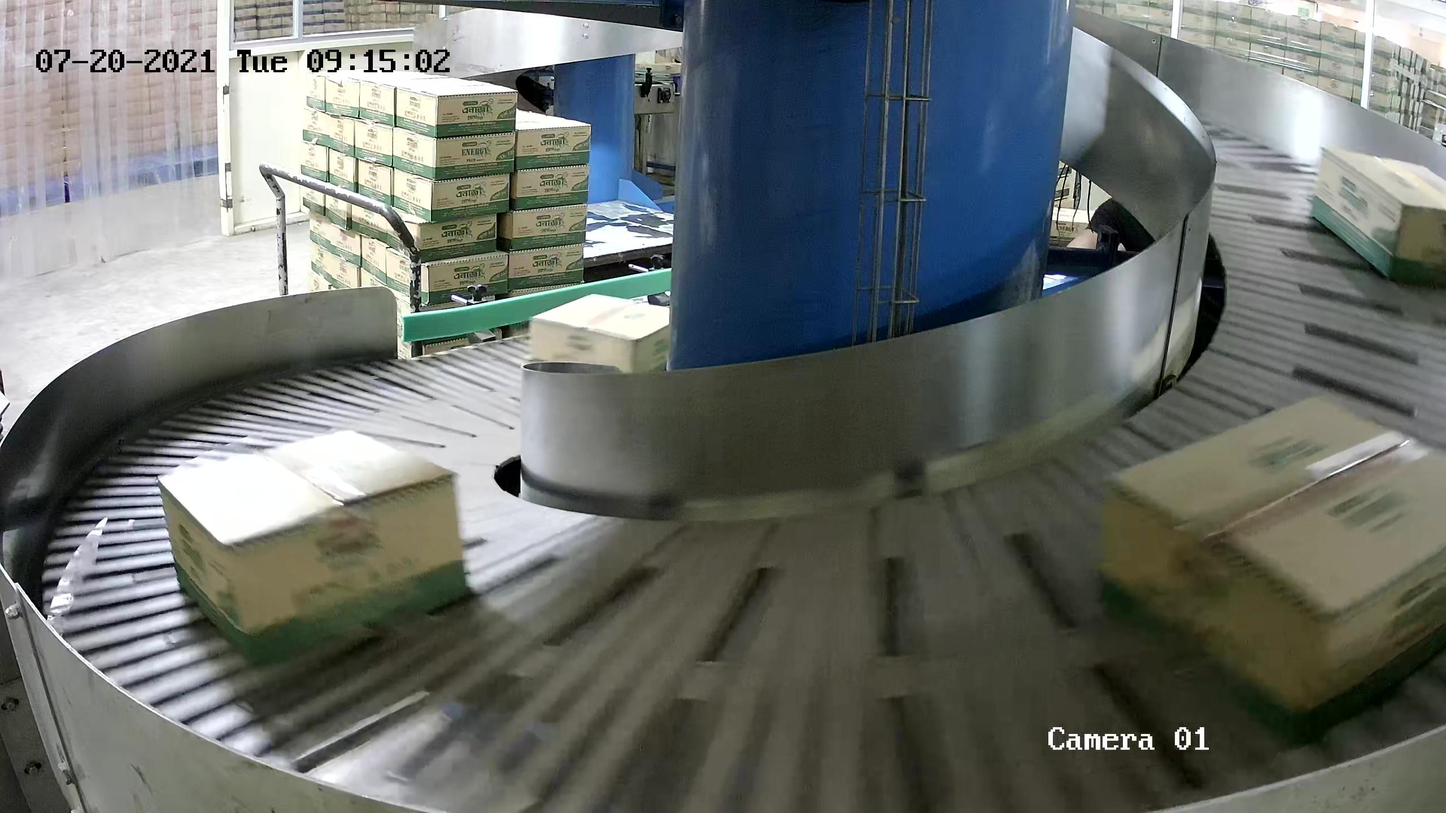Box: (1091, 390, 1446, 749), (157, 428, 470, 667), (1308, 143, 1446, 296), (531, 291, 676, 384)
